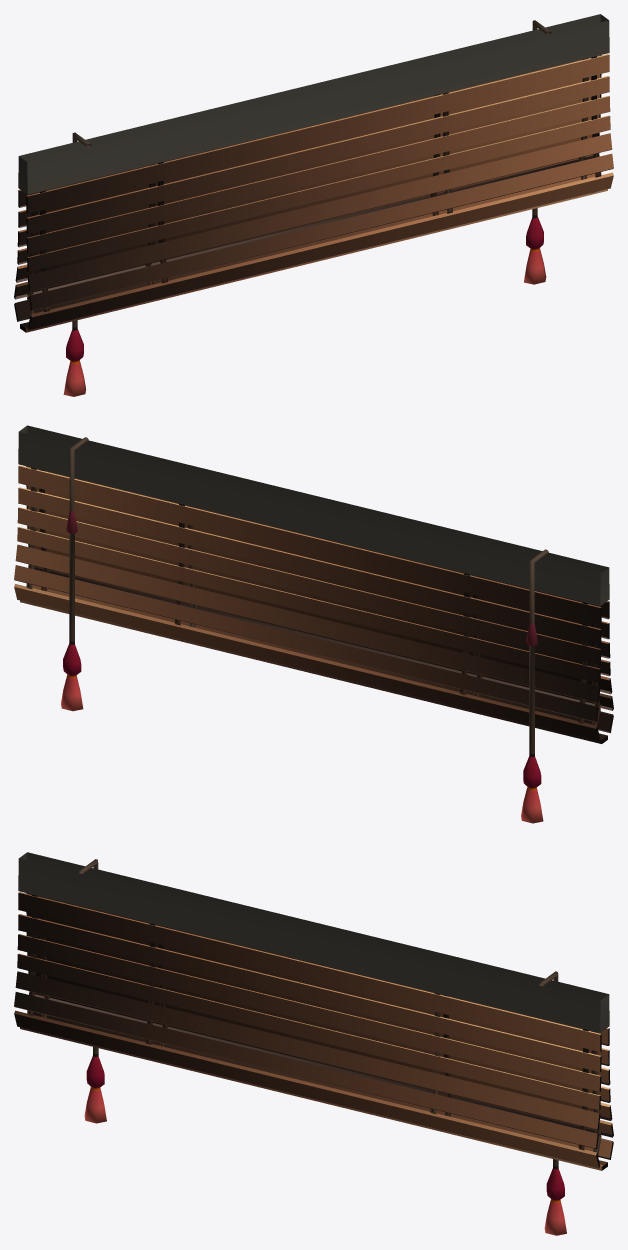
File: SK_Blind_001.FBX
3 renders of one model, top to bottom at view 1: azimuth 30°, elevation 25°; view 2: azimuth 150°, elevation 25°; view 3: azimuth 330°, elevation 25°, orthographic.
Parts seen in each view (by area): view 1: SK_Blind_001; view 2: SK_Blind_001; view 3: SK_Blind_001.
Boxes of the visible parts, <box> form: SK_Blind_001: <box>14,14,613,396</box>; SK_Blind_001: <box>14,425,613,823</box>; SK_Blind_001: <box>14,852,613,1235</box>.
Bounding box in the file's own units: 163 × 69.17 × 11.71.
Materials: 1 (1 with a texture image).
